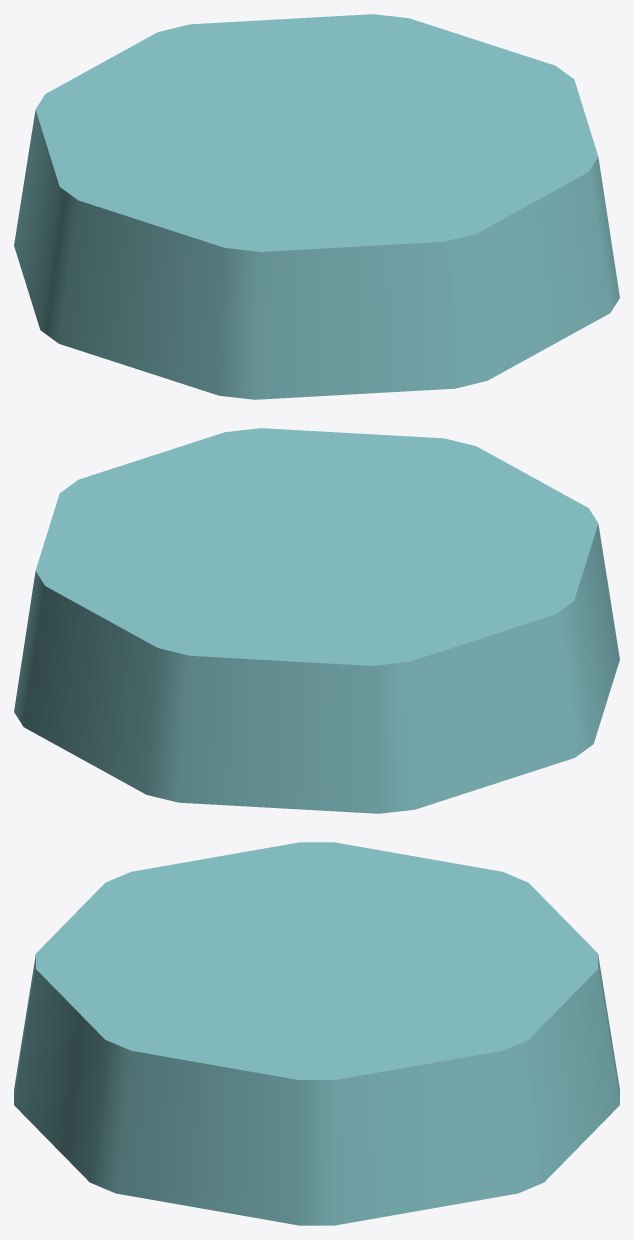
Rendered from rock_modulable_2.fbx.
The picture shows the model from 3 angles, top to bottom: view 1: azimuth 30°, elevation 25°; view 2: azimuth 150°, elevation 25°; view 3: azimuth 270°, elevation 25°; orthographic projection.
Visible parts, largest first — view 1: Sphere006; view 2: Sphere006; view 3: Sphere006.
Boxes of the visible parts, bbox=[...] form: Sphere006: bbox=[14, 14, 619, 399]; Sphere006: bbox=[14, 428, 619, 813]; Sphere006: bbox=[14, 842, 619, 1225].
Bounding box in the file's own units: 30.64 × 7.6 × 30.64.
